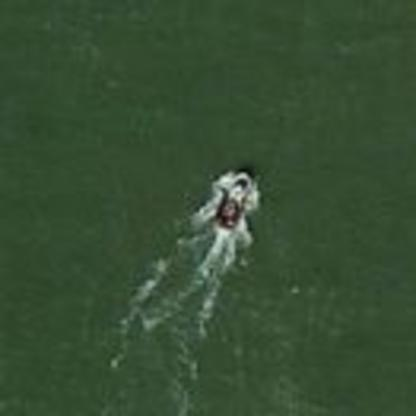ship: (210, 166, 257, 232)
